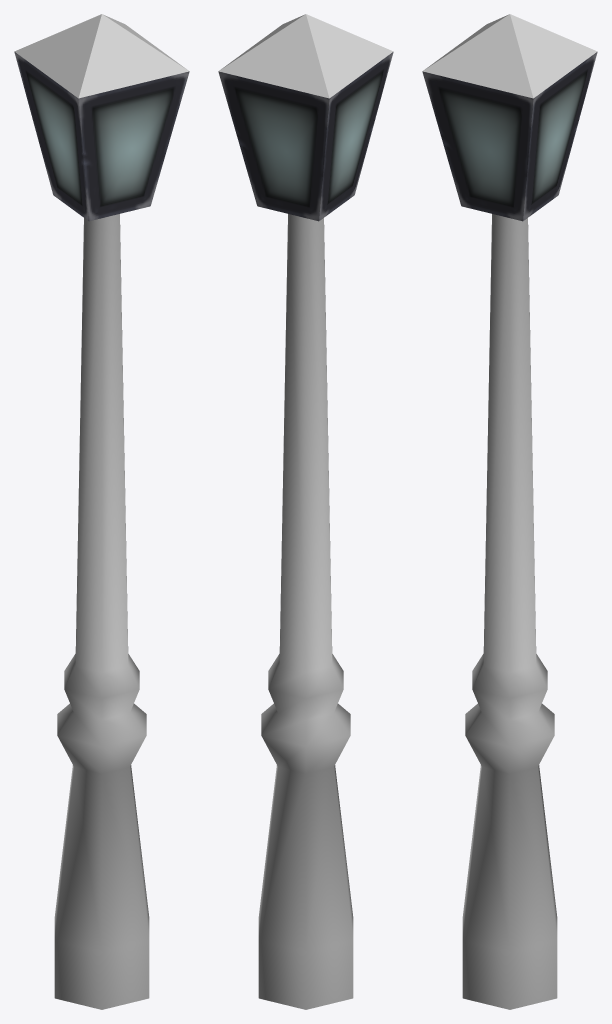
File: streetLight03.fbx
3 views of the same model, side by side, from view 1: azimuth 30°, elevation 25°; view 2: azimuth 150°, elevation 25°; view 3: azimuth 330°, elevation 25° (orthographic).
Visible parts, largest first — view 1: streetLight03; view 2: streetLight03; view 3: streetLight03.
Boxes of the visible parts, <box> form: streetLight03: <box>14,14,189,1009</box>; streetLight03: <box>218,14,393,1009</box>; streetLight03: <box>422,14,597,1009</box>.
Size of the model in its own units: 44.06 by 368 by 44.06.
